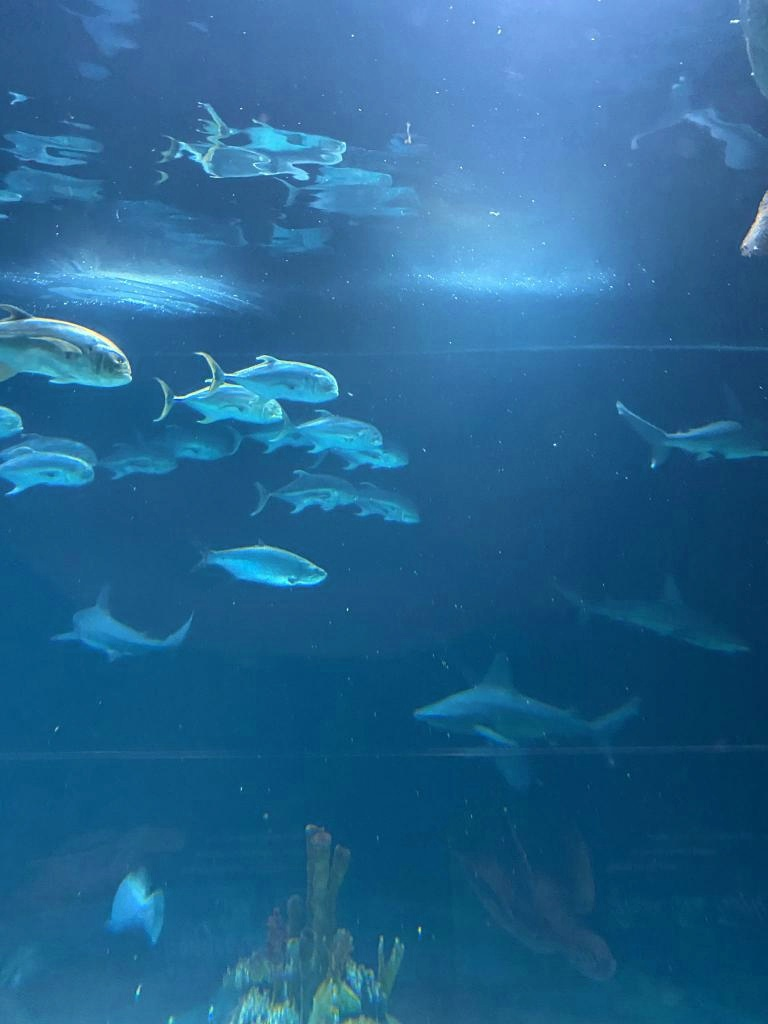fish: (0, 306, 131, 391), (200, 353, 338, 405), (153, 372, 284, 426), (191, 540, 327, 586), (266, 412, 382, 456), (107, 866, 167, 942), (252, 472, 354, 516), (0, 450, 96, 496), (334, 478, 416, 526), (139, 424, 237, 462), (92, 446, 176, 482), (342, 436, 402, 472), (0, 407, 24, 439)
shark: (418, 652, 636, 762), (550, 573, 748, 651), (617, 382, 767, 470), (50, 588, 194, 660)
